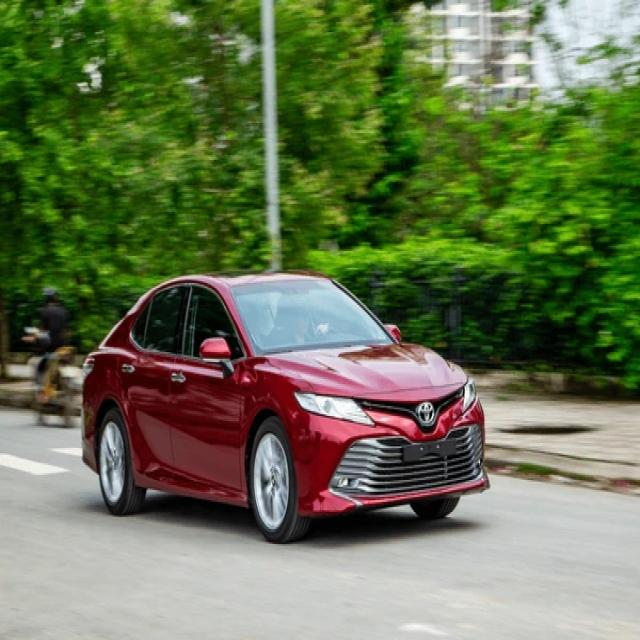toyota: (416, 402, 434, 423)
